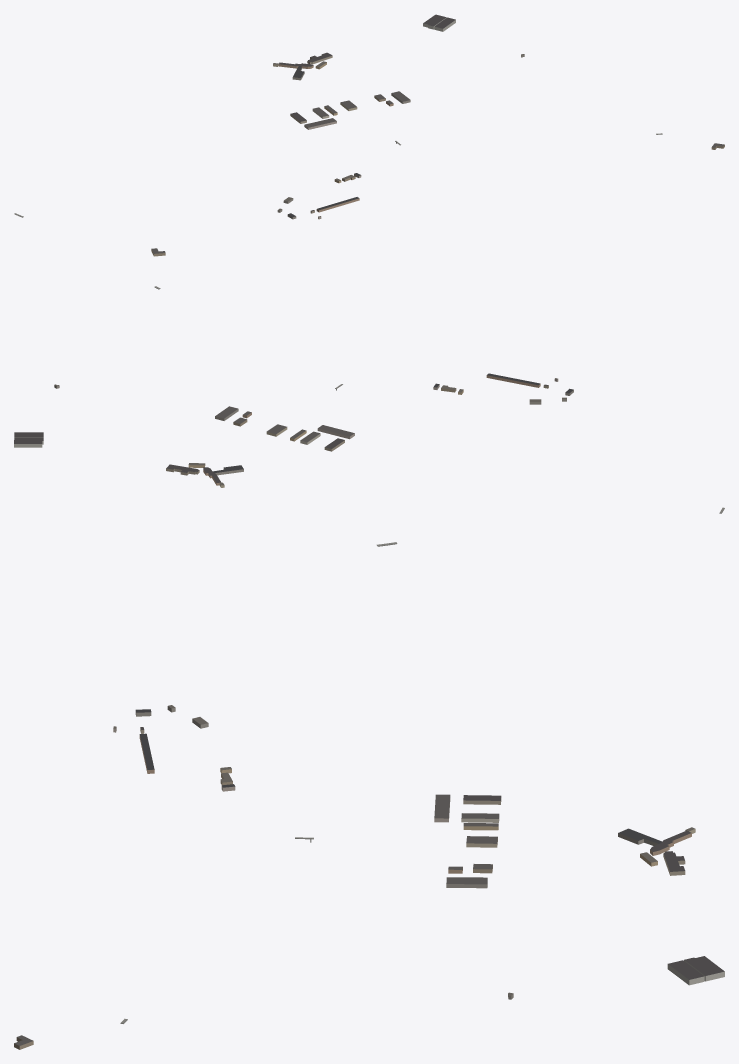
File: scenery.glb
3 renders of one model, top to bottom at view 1: azimuth 30°, elevation 25°; view 2: azimuth 150°, elevation 25°; view 3: azimuth 270°, elevation 25°, orthographic. The views are drawn at different scales.
Parts seen in each view (by area): view 1: chunk_15_14, chunk_17_13, chunk_14_15; view 2: chunk_15_14, chunk_14_15, chunk_17_13; view 3: chunk_15_14, chunk_17_13, chunk_15_13.
Boxes of the visible parts, left/top/right/bottom form: chunk_15_14: left=290, top=100, right=357, bottom=129; chunk_17_13: left=423, top=14, right=455, bottom=31; chunk_14_15: left=277, top=197, right=359, bottom=219; chunk_15_14: left=266, top=424, right=354, bottom=451; chunk_14_15: left=486, top=373, right=573, bottom=404; chunk_17_13: left=14, top=432, right=43, bottom=447; chunk_15_14: left=434, top=794, right=501, bottom=847; chunk_17_13: left=667, top=956, right=724, bottom=985; chunk_15_13: left=618, top=827, right=695, bottom=855.
Size of the model in its own units: 2096 by 15.83 by 1241.
